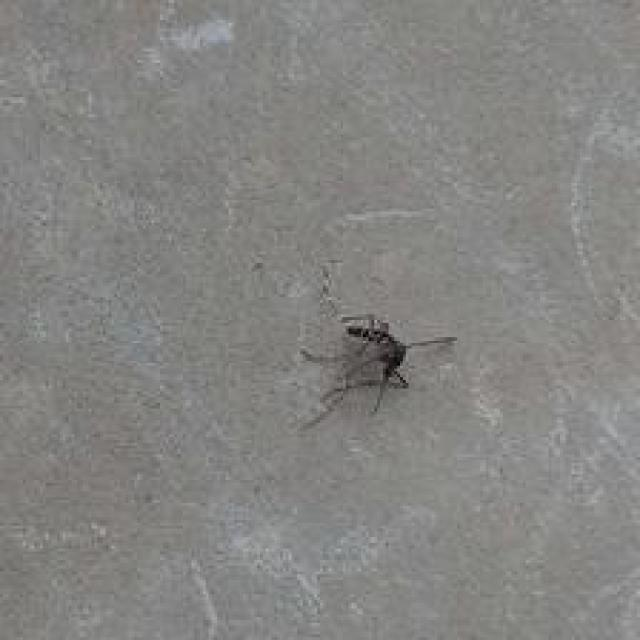Aedes albopictus: (293, 266, 458, 434)
